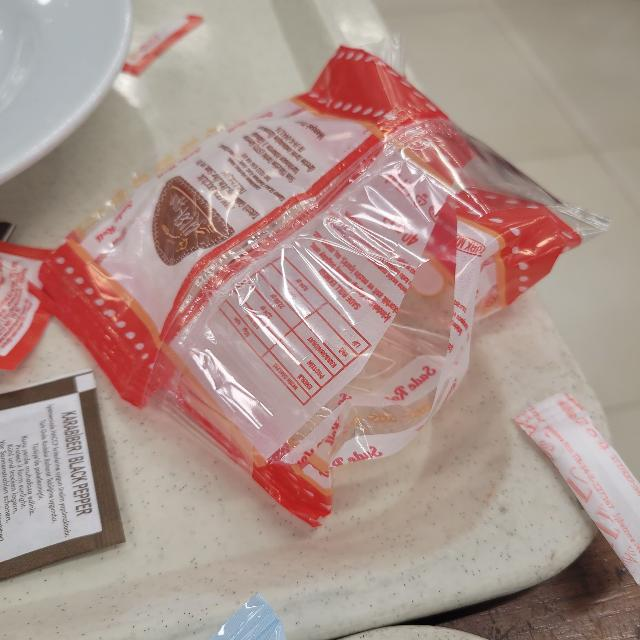Plastik: (49, 42, 614, 519)
